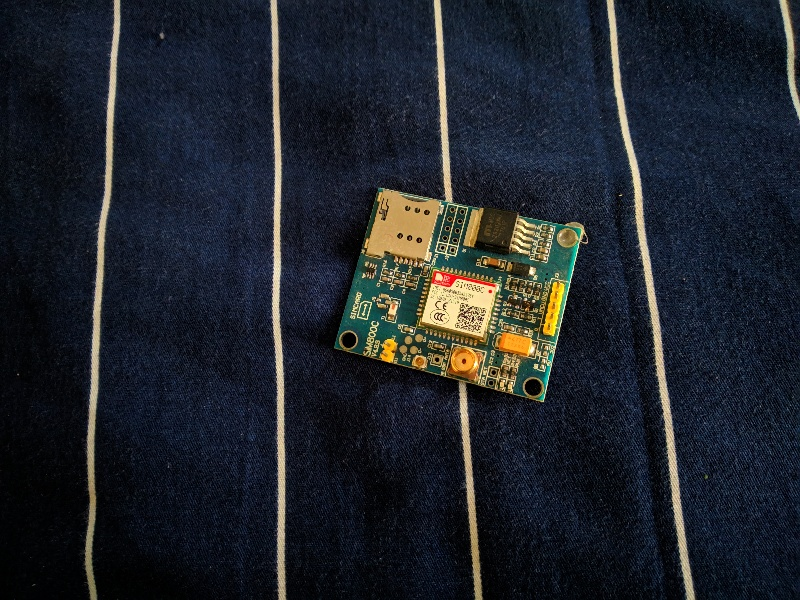SIM800: (324, 179, 589, 410)
